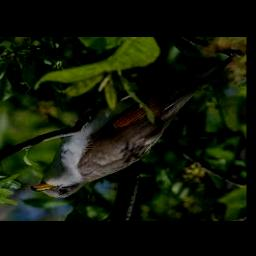Cuckoo: (31, 67, 208, 199)
